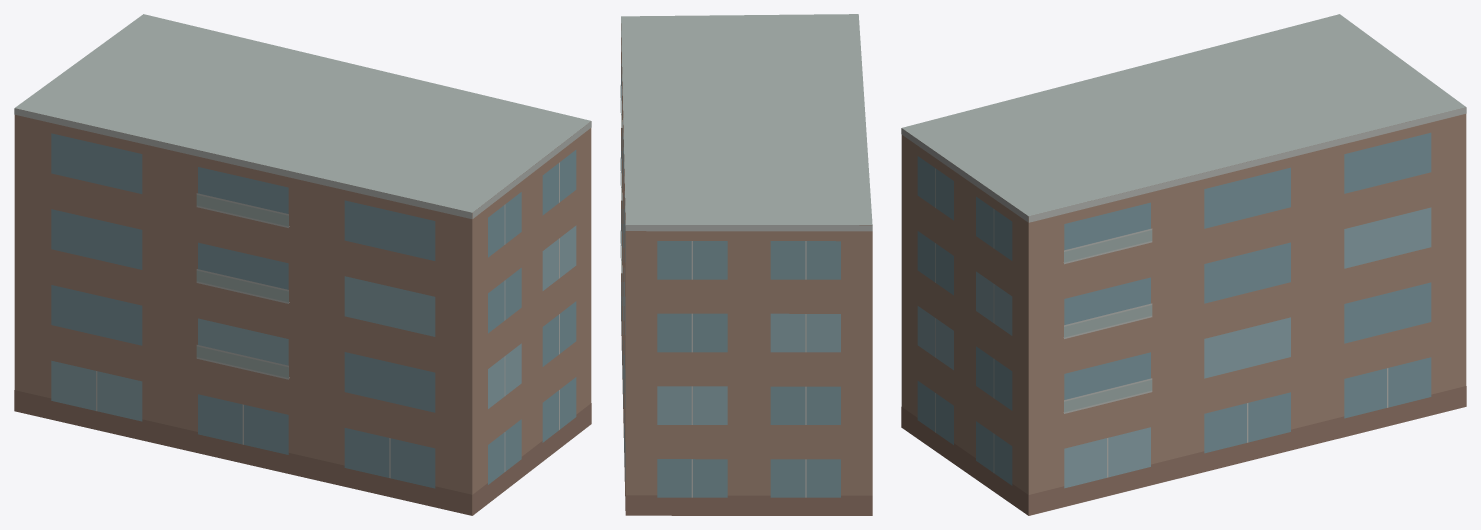
The model's file is survey-upis-33029783.glb.
3 views of the same model, side by side, from view 1: azimuth 30°, elevation 25°; view 2: azimuth 150°, elevation 25°; view 3: azimuth 270°, elevation 25° (orthographic). The views are drawn at different scales.
Parts seen in each view (by area): view 1: survey-upis-33029783.tmp; view 2: survey-upis-33029783.tmp; view 3: survey-upis-33029783.tmp.
Boxes of the visible parts, box(x1,y1,x2,y2) form: survey-upis-33029783.tmp: box(14, 14, 591, 515); survey-upis-33029783.tmp: box(620, 14, 872, 515); survey-upis-33029783.tmp: box(901, 14, 1466, 515).
Bounding box in the file's own units: 16.38 × 11.3 × 19.33.
